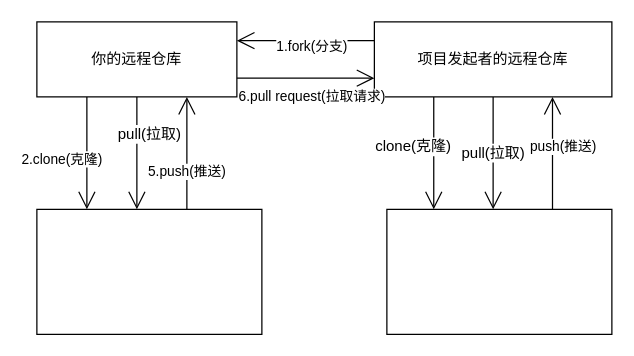
This 634x356 diagram has some shape labels left out. Each missing label, with the centre of its shape:
本地仓库 3.修改文件 4.commit提交到本地暂存区: (x=149, y=271)
项目发起者的本地仓库 修改文件 commit提交到本地暂存区: (x=499, y=271)
